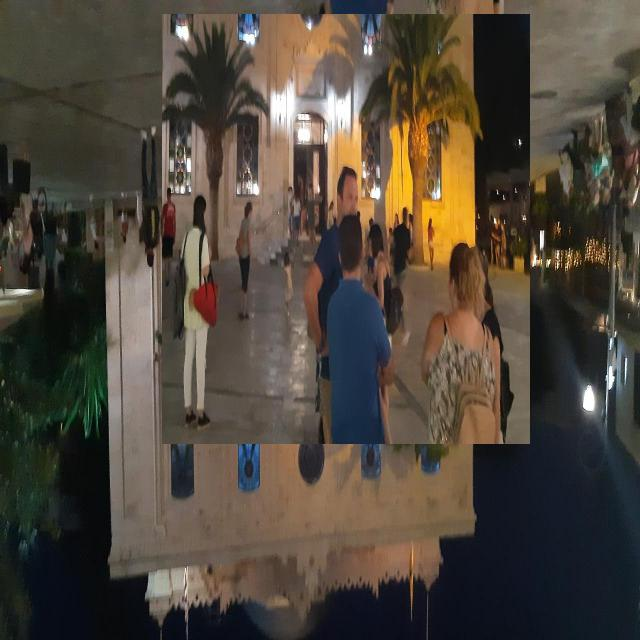Agios Titos: (163, 15, 531, 445)
